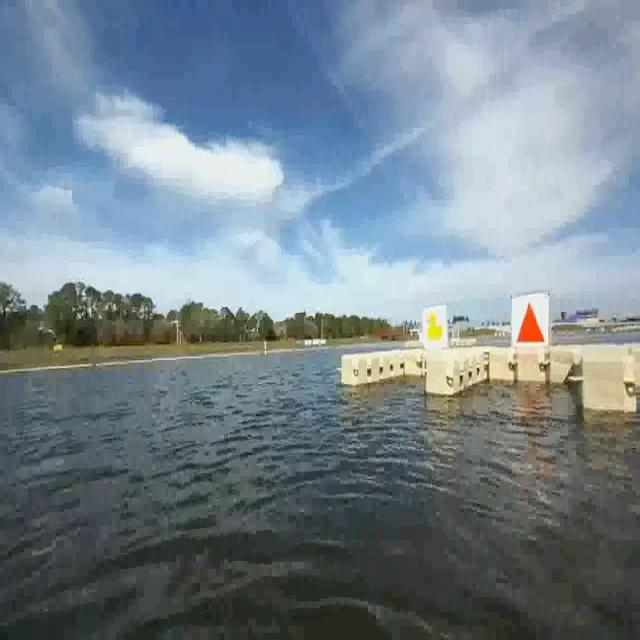red-dot: (512, 300, 546, 344)
yellow-duck: (422, 308, 449, 352)
